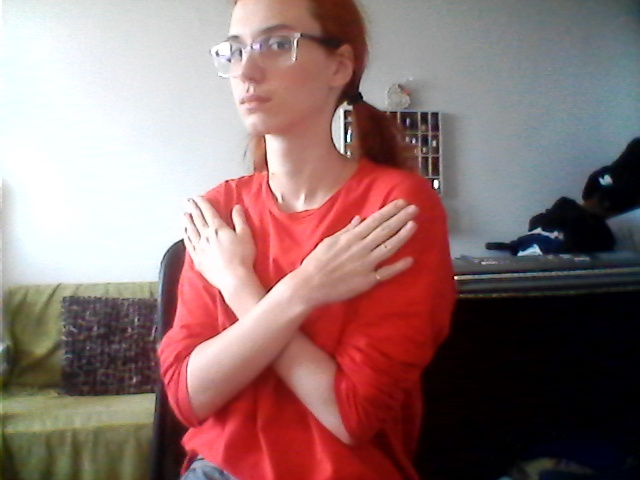z: (165, 191, 424, 450)
